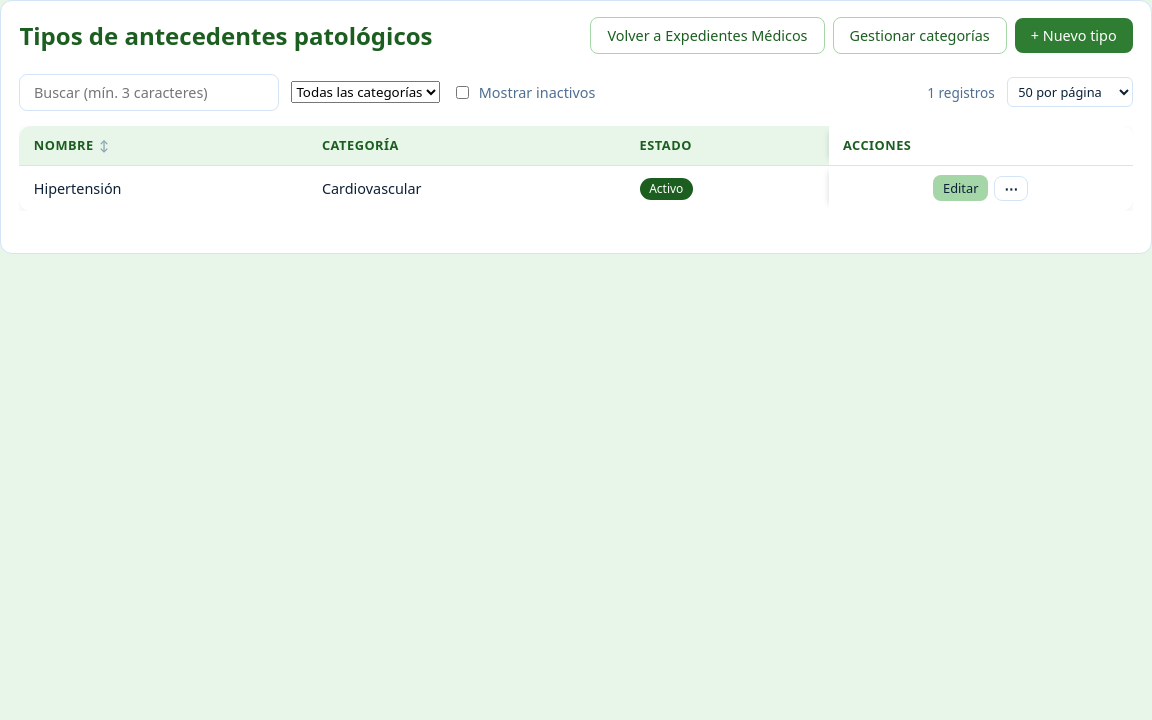
Test: RecordApTypes › opens the manage-categories dialog and lists existing categories
Expected: the text "Hipertensión" is shown, x1=19 y1=165 x2=308 y2=211
Click the button "Gestionar categorías": (920, 36) x1=832 y1=17 x2=1007 y2=54
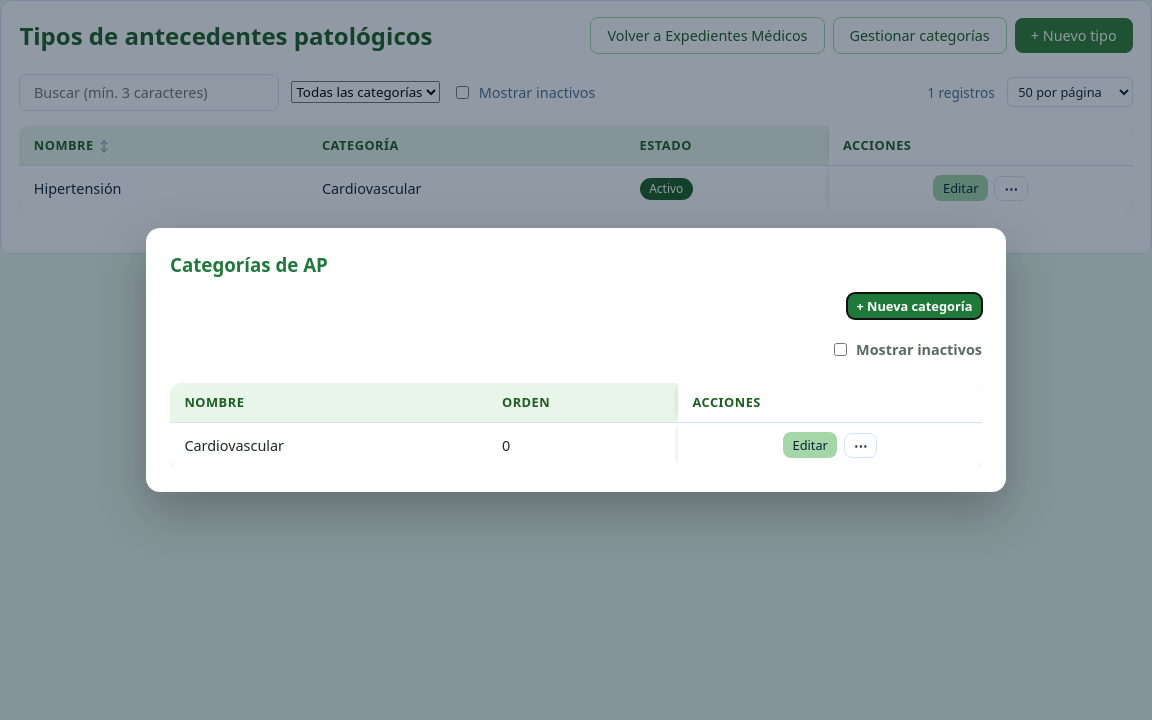
Now the heading "Categorías de AP" is shown, box x1=170 y1=252 x2=328 y2=277
